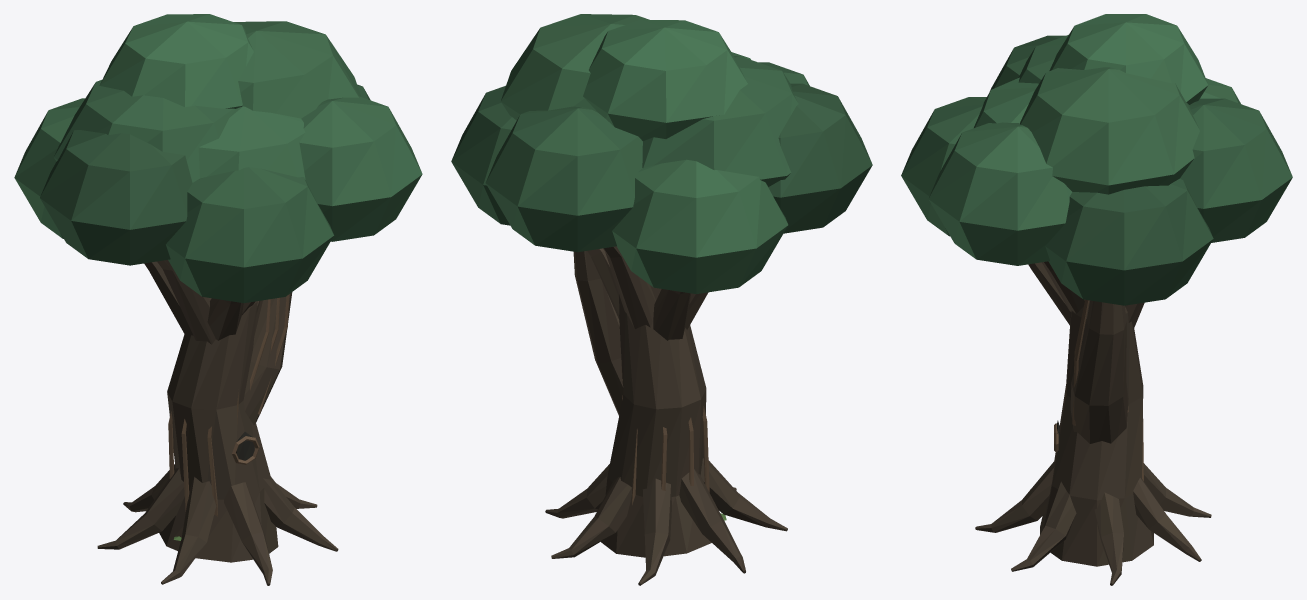
File: hardwood_tree_b.glb
3 views of the same model, side by side, from view 1: azimuth 30°, elevation 25°; view 2: azimuth 150°, elevation 25°; view 3: azimuth 270°, elevation 25° (orthographic). The views are drawn at different scales.
Visible parts, largest first — view 1: geometry; view 2: geometry; view 3: geometry.
Part boxes in pixels (x1,y1,x2,y2): geometry: (14, 14, 422, 585); geometry: (451, 14, 872, 585); geometry: (901, 14, 1292, 585).
Bounding box in the file's own units: 4.25 × 5.85 × 4.07.
